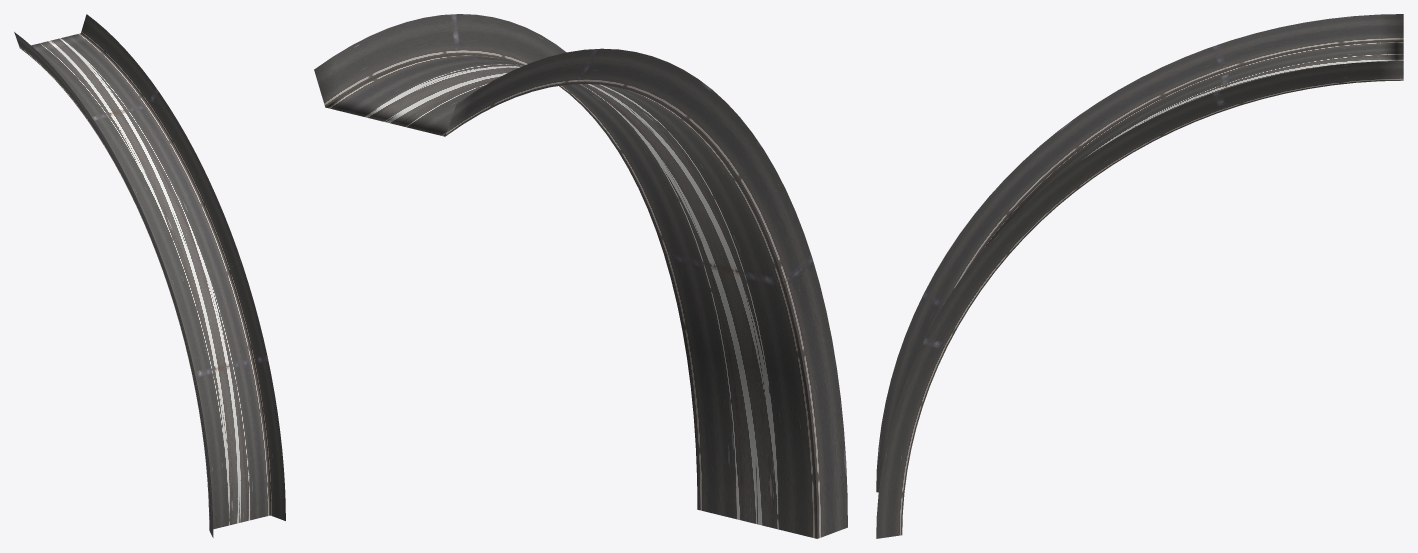
File: AngleTrackDown.fbx
3 renders of one model, left to right at view 1: azimuth 30°, elevation 25°; view 2: azimuth 150°, elevation 25°; view 3: azimuth 270°, elevation 25°, orthographic. The views are drawn at different scales.
Parts seen in each view (by area): view 1: polySurface1; view 2: polySurface1; view 3: polySurface1.
Part boxes in pixels (<box>): polySurface1: <box>14,14,285,537</box>; polySurface1: <box>314,14,847,538</box>; polySurface1: <box>876,14,1403,538</box>.
Size of the model in its own units: 7.13 by 33.94 by 33.94.
